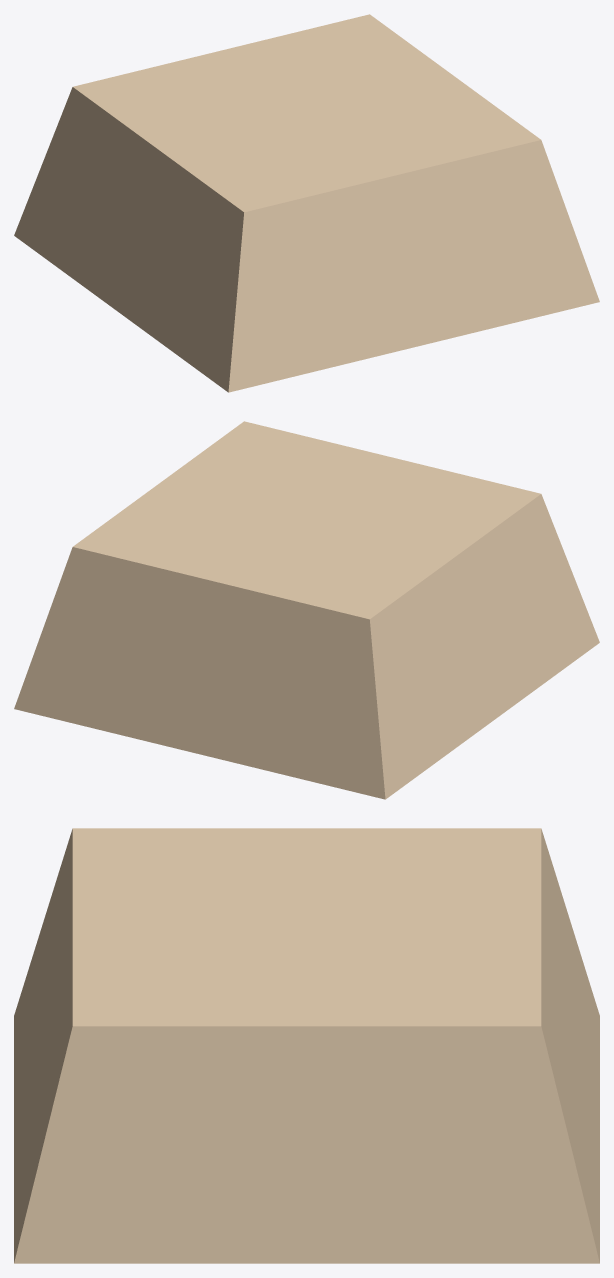
3 views of the same model, one above another, from view 1: azimuth 30°, elevation 25°; view 2: azimuth 150°, elevation 25°; view 3: azimuth 270°, elevation 25° (orthographic). The views are drawn at different scales.
Parts seen in each view (by area): view 1: object2.003; view 2: object2.003; view 3: object2.003.
Boxes of the visible parts, box(x1,y1,x2,y2) form: object2.003: box(14, 14, 599, 392); object2.003: box(14, 421, 599, 799); object2.003: box(14, 828, 599, 1263).
Bounding box in the file's own units: 0.5 × 0.2 × 0.5.
